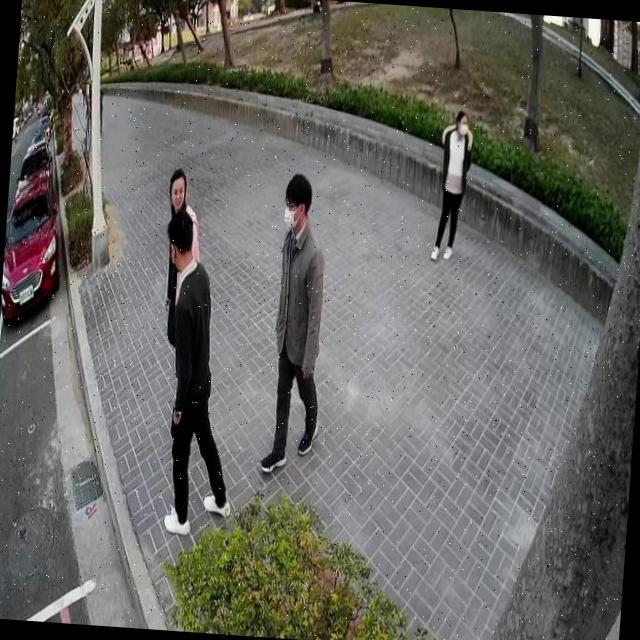person: (144, 207, 253, 541), (256, 165, 338, 480), (158, 164, 207, 348), (428, 105, 478, 262)
